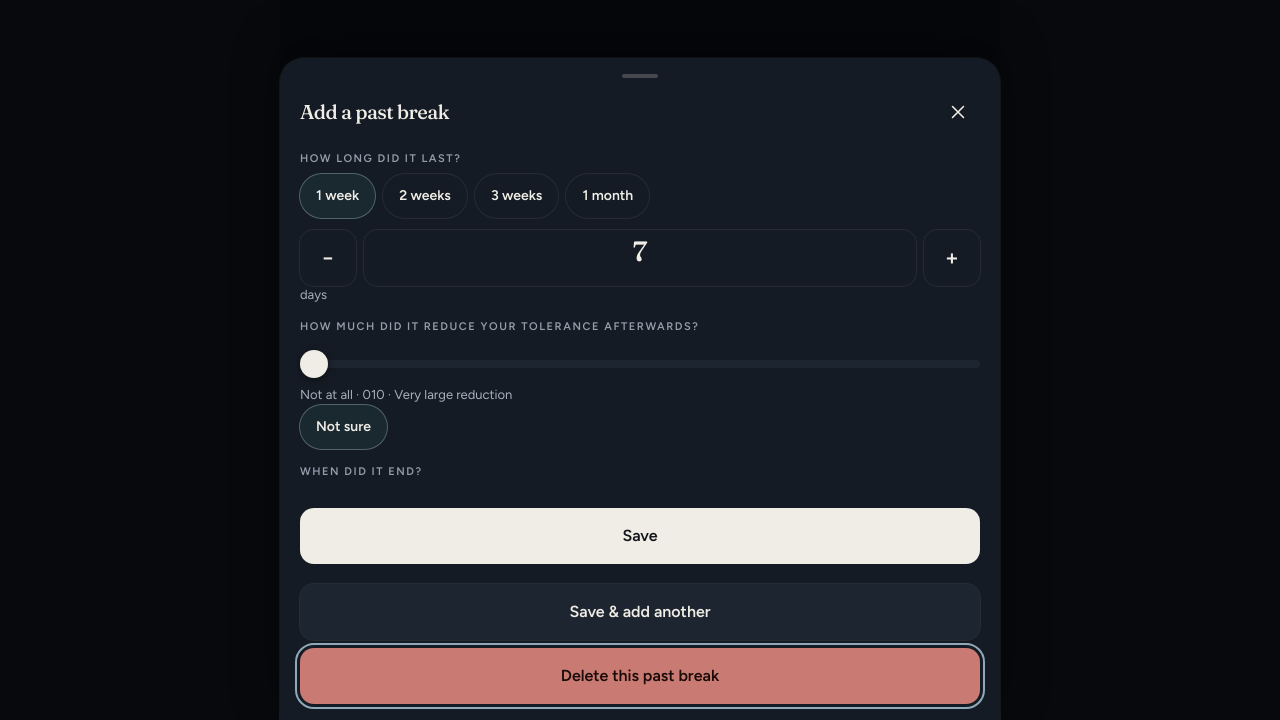
main navigation and modal isolation › keeps keyboard focus on the top confirmation and Escape returns to its parent
Click the button with test id "previous-break-delete": (640, 676) [300,648,980,704]
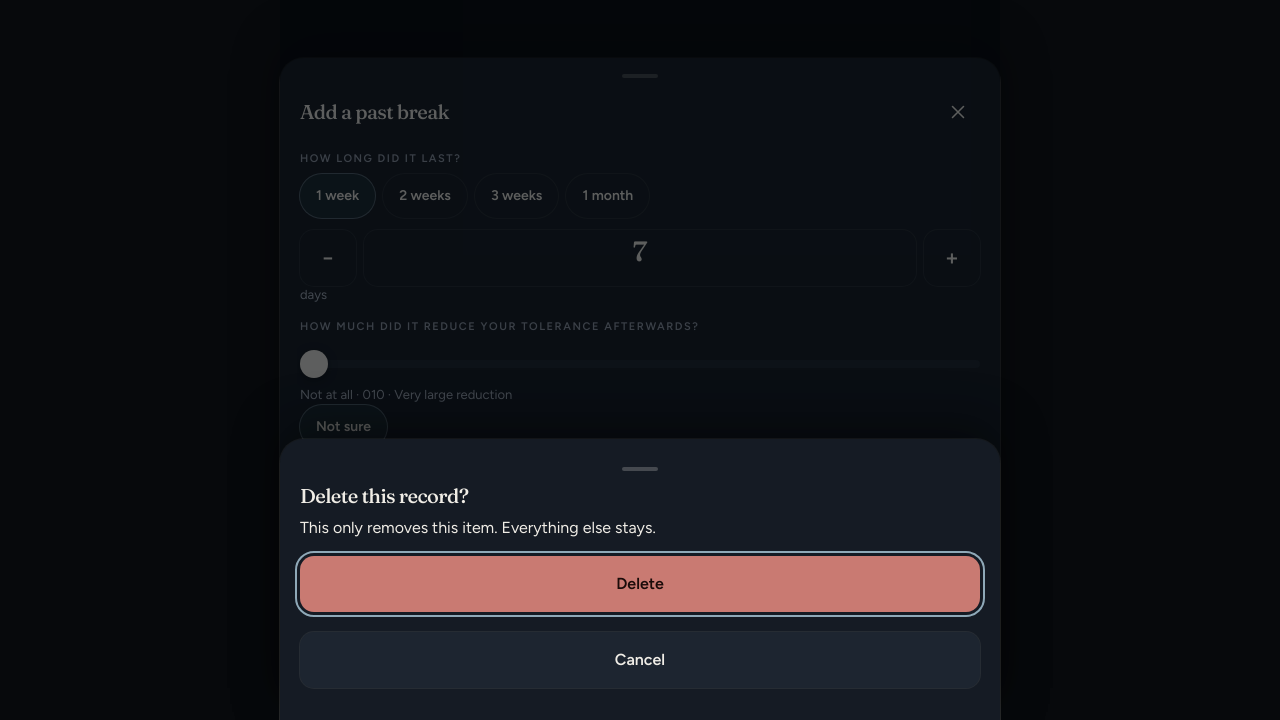
Expected: the button "Cancel" is shown, [300,632,980,688]
Press Tab
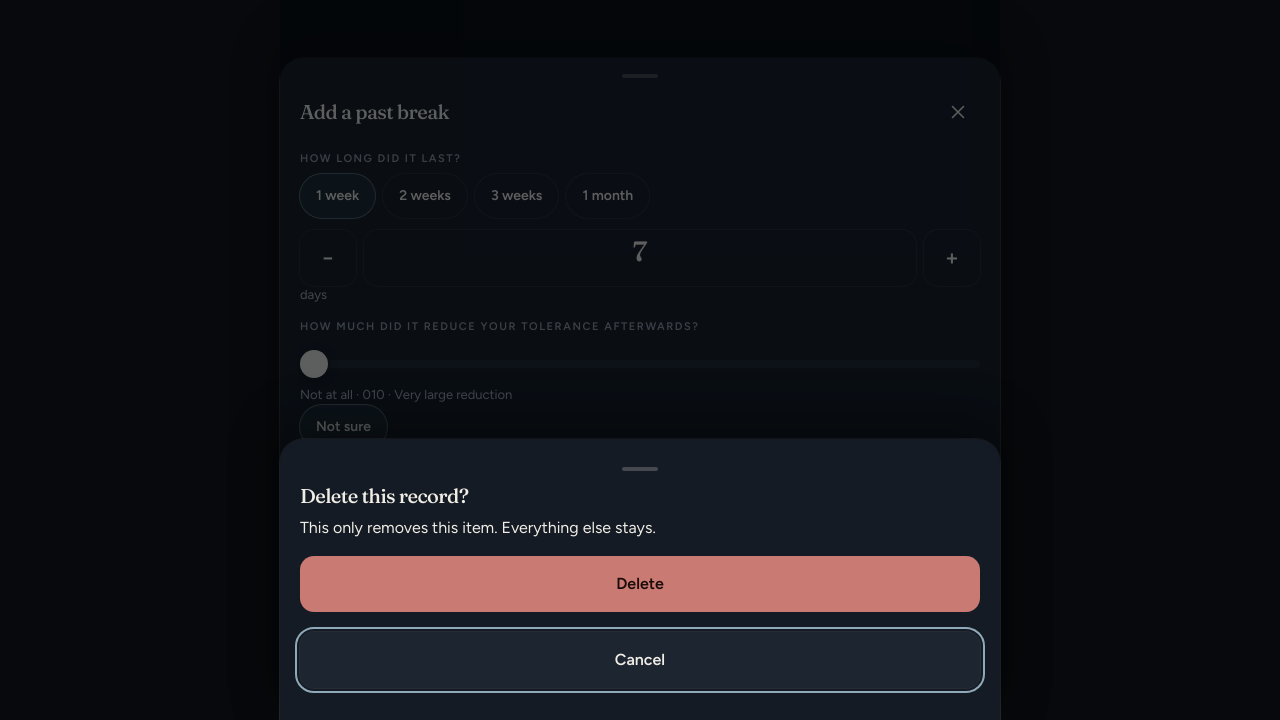
Expected: the button "Cancel" is shown, [300,632,980,688]
Press Escape
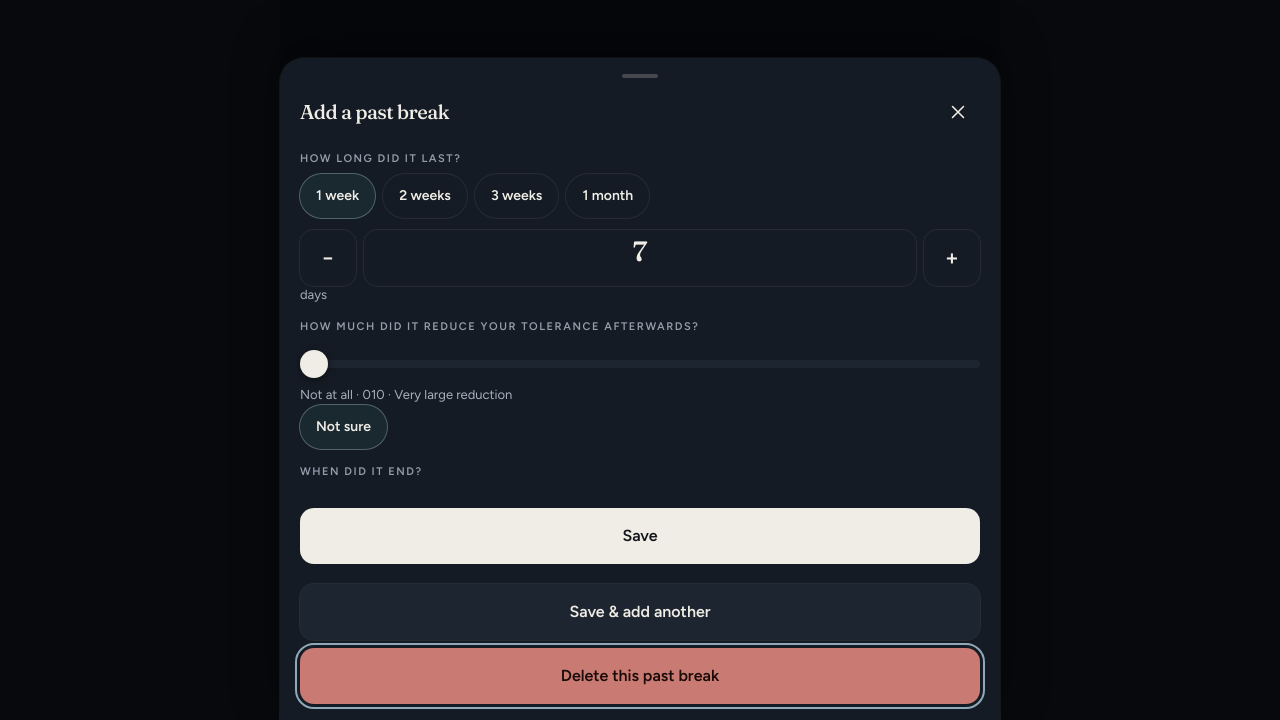
Expected: the element with test id "previous-break-sheet" is shown, [280,0,1000,719]
Expected: the element with test id "confirm-dialog" is gone
